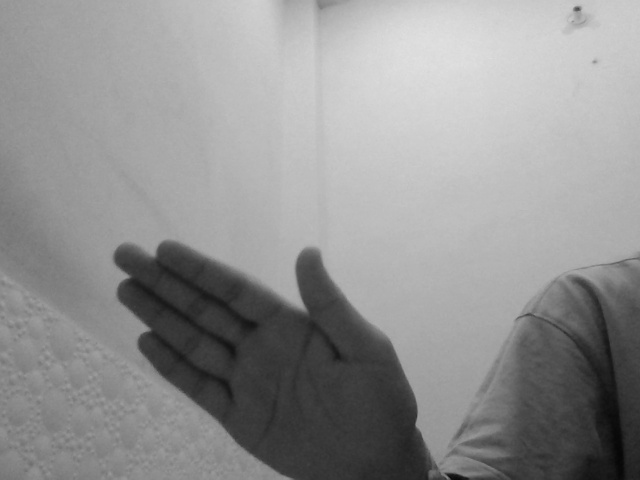Hello: (89, 225, 446, 480)
